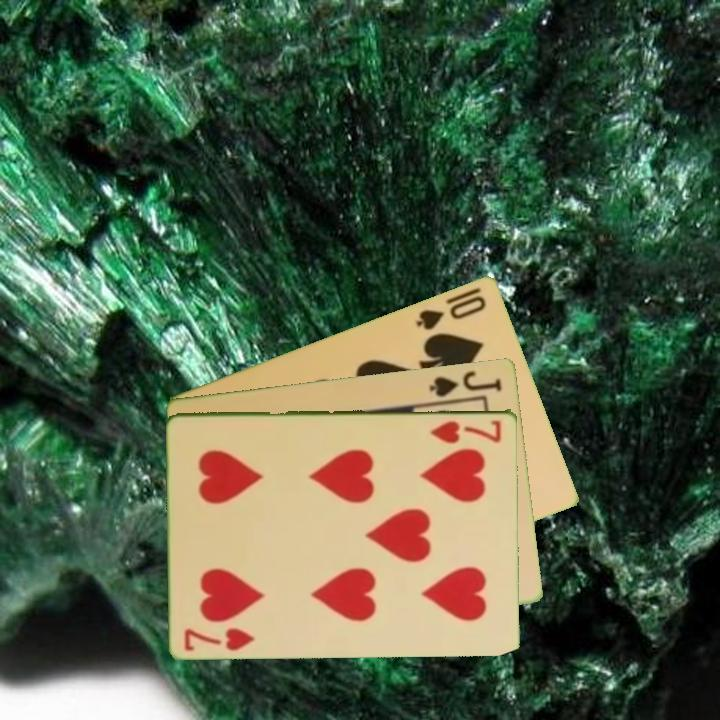10s: (413, 291, 489, 333)
7h: (427, 416, 504, 446), (181, 624, 258, 653)
Js: (426, 367, 505, 400)
